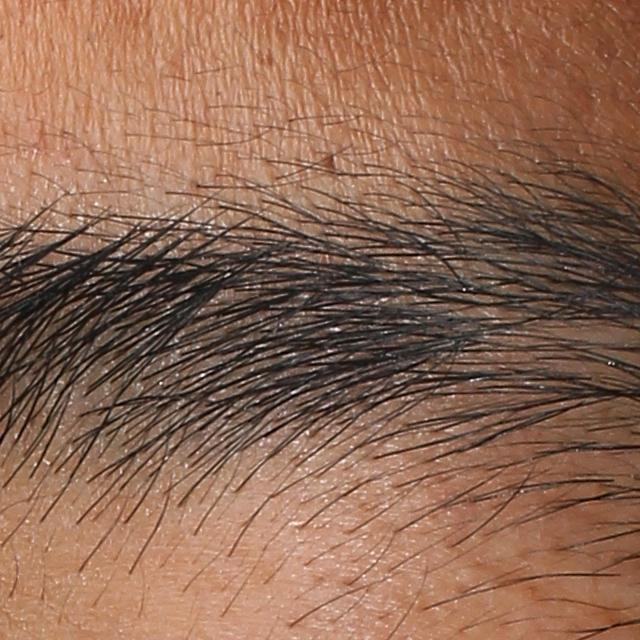nevus: (321, 149, 344, 177)
